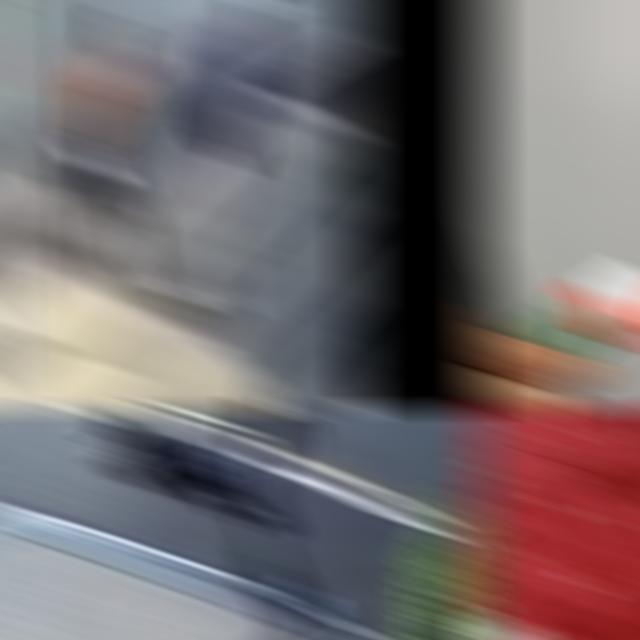Knife: (510, 267, 640, 355), (68, 151, 117, 180)
Knife_Handle: (468, 80, 640, 412), (62, 144, 120, 183), (276, 414, 308, 449)
